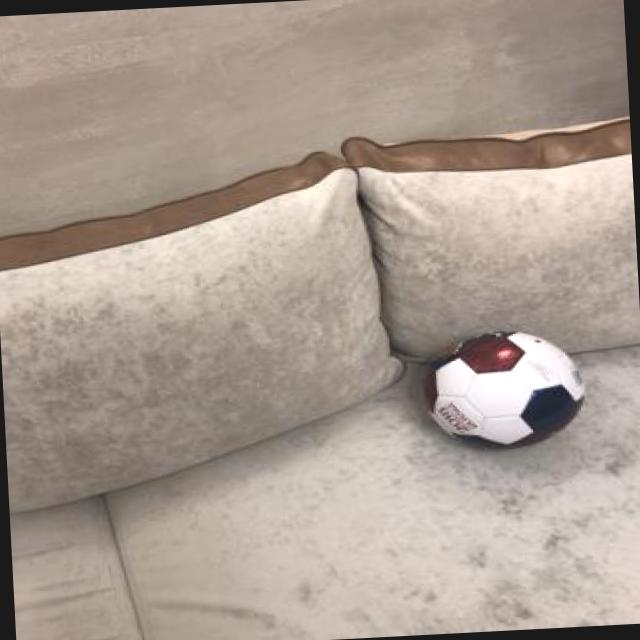Soccer Ball: (412, 322, 587, 451)
